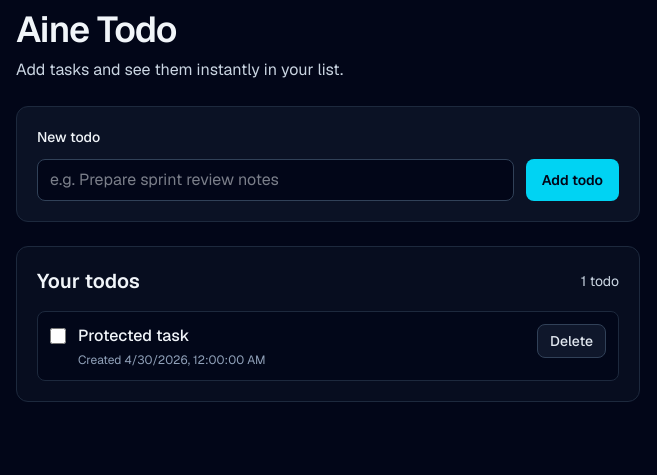
Test case: Home page todo flow › shows non-blocking error when delete fails
The image size is (657, 475).
Expected: the text "Protected task" is shown, [78,325,189,346]
Click the button with aria-label "Delete todo: Protected task" at (571, 341), box [537,324,606,358]
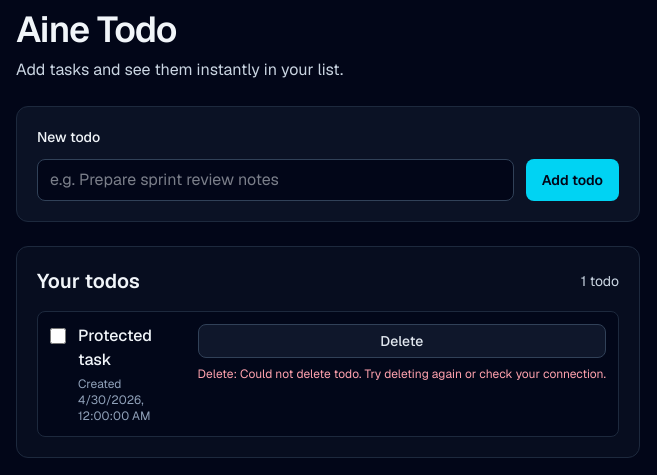
Expected: the text "Protected task" is shown, [78,325,152,370]
Expected: the text "Delete: Could not delete todo. Try deleting again or check your connection." is shown, [198,366,606,382]
